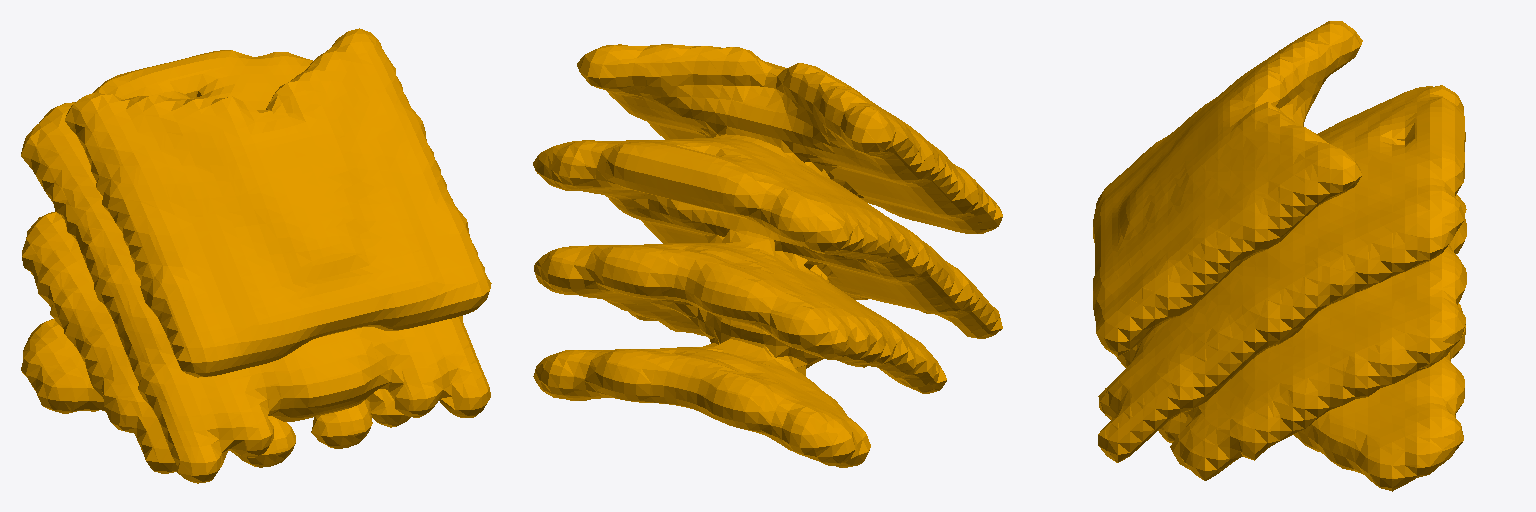
URDF robot description (N19_2):
<?xml version="1.0"?>
<robot name="N19_2">
  <link name="base_link">
    <inertial>
      <mass value="0.13659" />
      <origin xyz="0 0 0" />
      <inertia  ixx="0.0002" ixy="0.0"  ixz="0.0"  iyy="0.0002"  iyz="0.0" izz="0.0002" />
    </inertial>
    <visual>
      <geometry>
        <mesh filename="../../../meshes/egad/train/N19_2.obj" />
      </geometry>
    </visual>
    <collision>
      <geometry>
        <mesh filename="../../../meshes/egad/train/N19_2.obj" />
      </geometry>
    </collision>
  </link>
</robot>

--- What the picture shows (computed from the rendered views, not written in the file) ---
3 views of the same robot in one strip: view 1: azimuth 30°, elevation 25°; view 2: azimuth 150°, elevation 25°; view 3: azimuth 270°, elevation 25° (orthographic).
Robot: N19_2 — 1 links, 0 joints (none); root link base_link; default pose: all joints at 0.
Visible links, largest first — view 1: base_link; view 2: base_link; view 3: base_link.
Link boxes in pixels (x1,y1,x2,y2): base_link: (21,28,491,483); base_link: (533,44,1002,467); base_link: (1093,21,1466,491).
Size in the robot's own frame: 0.06 by 0.0608 by 0.0605 metres.
Meshes: 1 distinct files referenced, 1 mesh visuals loaded (1 OBJ).